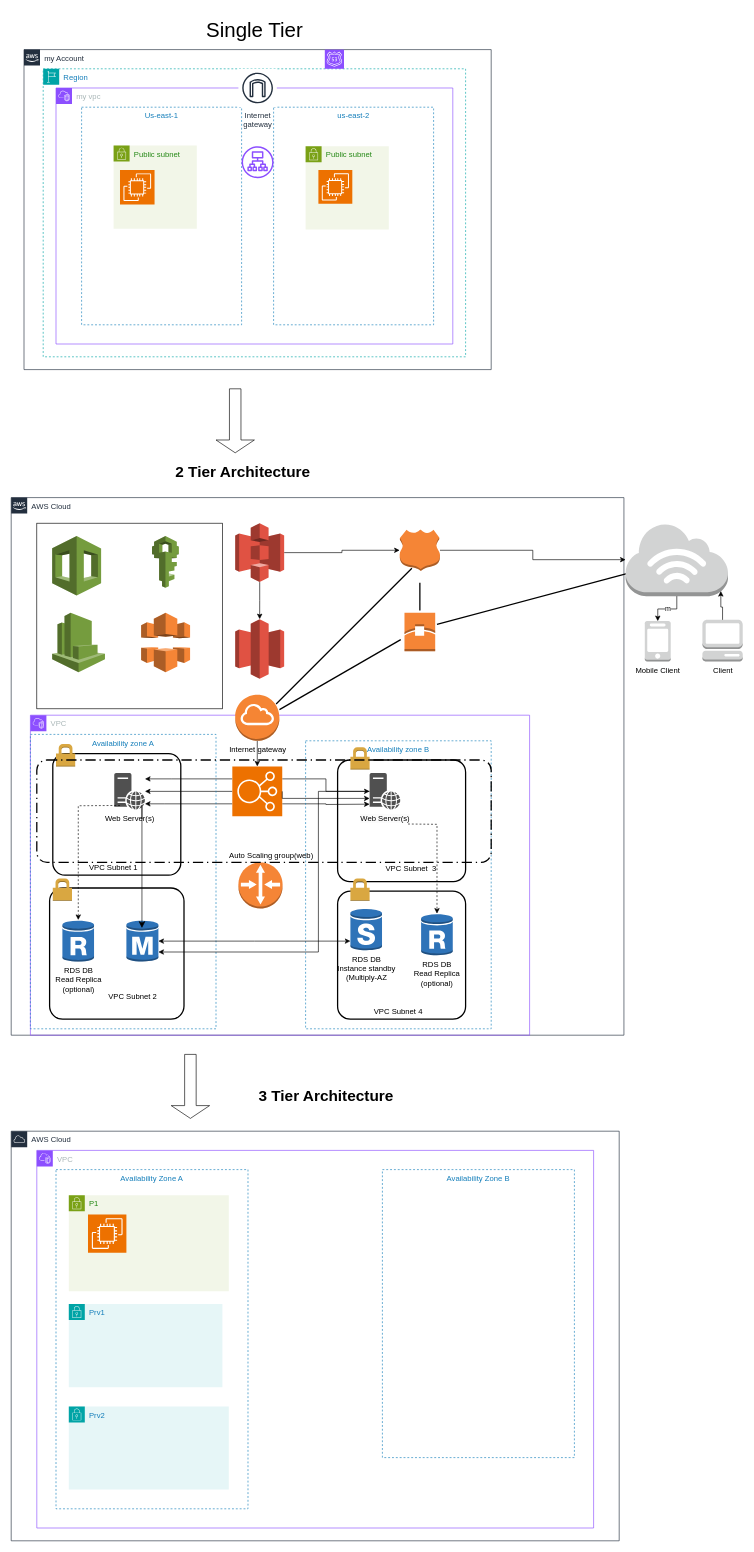
This 754x1552 diagram has some shape labels left out. Each missing label, with the centre of its shape:
"Cloudformation" goes at [76,565].
"Cloudfront" goes at [165,642].
"Cloudwatch" goes at [78,642].
"Edge" goes at [419,631].
"Elastic Load Balancer" goes at [257,791].
"Hosted Zone" goes at [419,550].
"IAM" goes at [165,561].
"Internet" goes at [676,559].
"RDS DB" goes at [142,940].
"S3" goes at [259,552].
"VPC Router" goes at [260,885].
